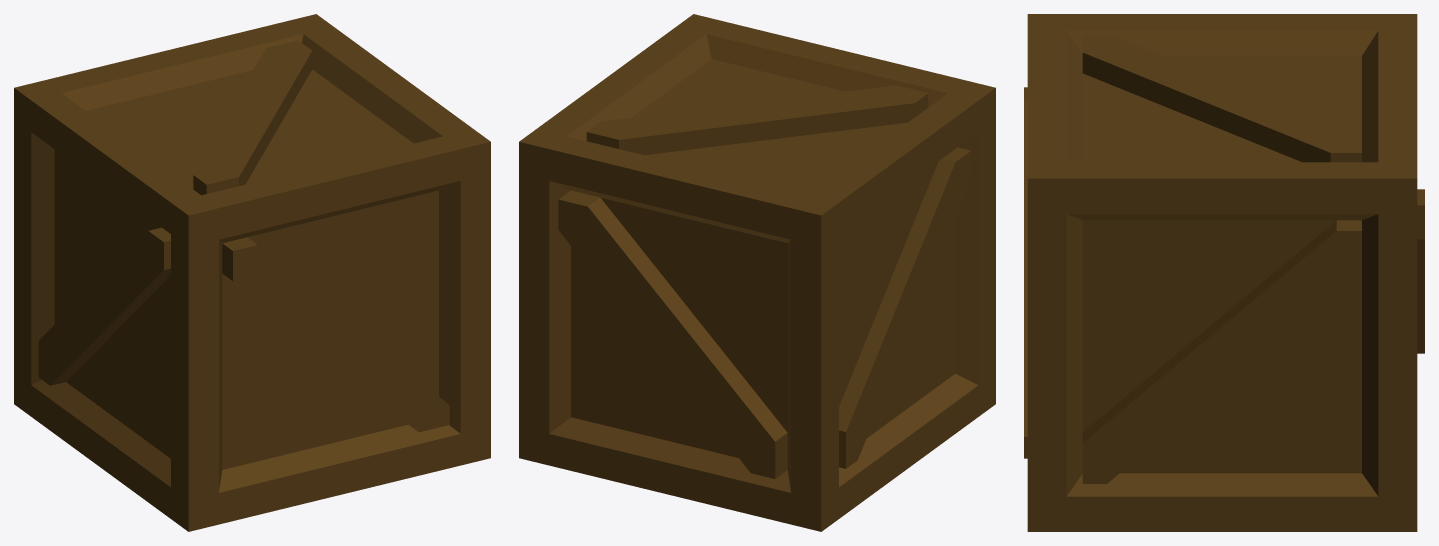
The picture shows the model from 3 angles, left to right: view 1: azimuth 30°, elevation 25°; view 2: azimuth 150°, elevation 25°; view 3: azimuth 270°, elevation 25°; orthographic projection. The views are drawn at different scales.
Parts seen in each view (by area): view 1: Box_3; view 2: Box_3; view 3: Box_3.
Boxes of the visible parts, box(x1,y1,x2,y2) form: Box_3: box(14, 14, 490, 531); Box_3: box(519, 14, 995, 531); Box_3: box(1024, 14, 1424, 531).
Bounding box in the file's own units: 1564 × 1554 × 1587.
